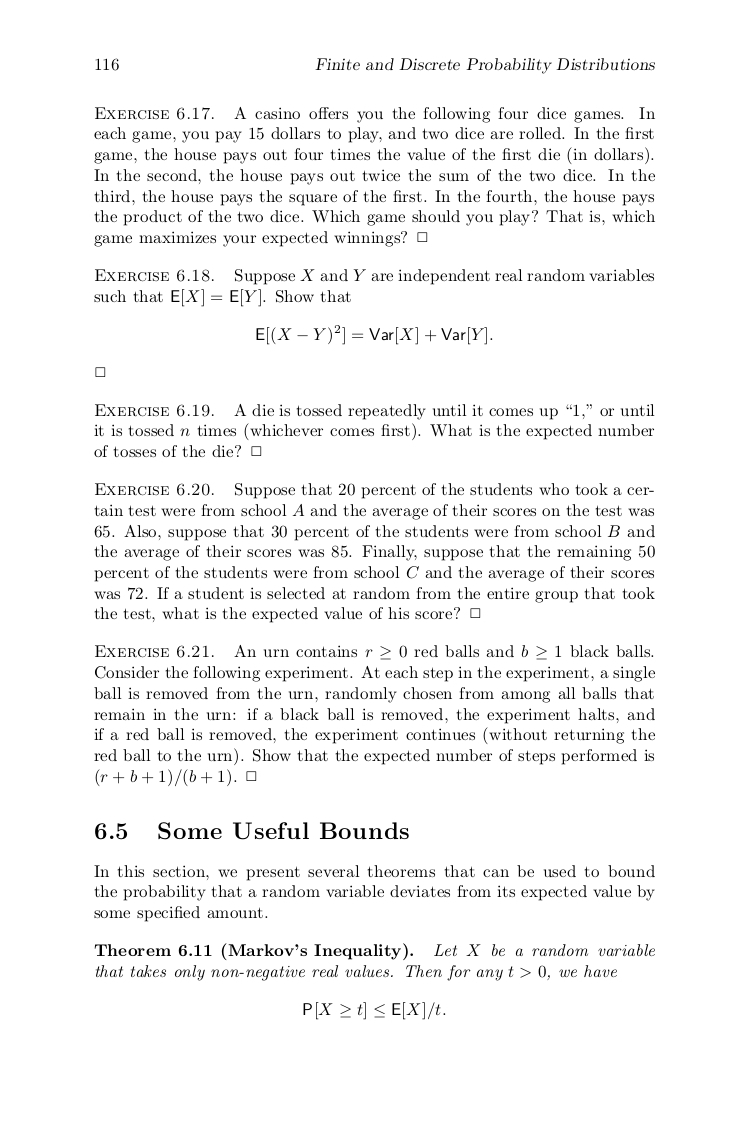formula: (256, 324, 492, 345), (303, 1001, 445, 1020)
